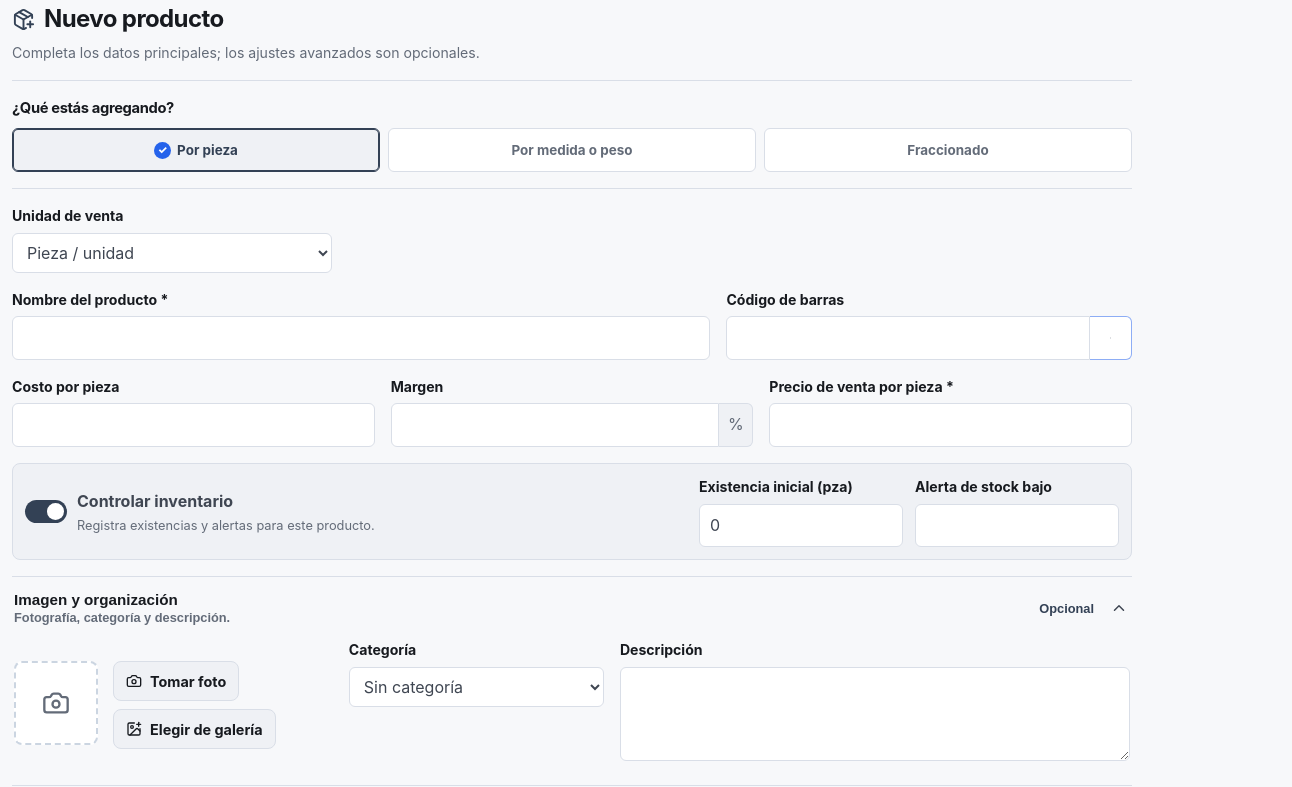
Scenario: ProductFormV2 › exposes hardware sale modes, canonical measure units, and conversion setup
Expected: the radio button labelled "Fraccionado" is shown, [764, 128, 1132, 172]
Expected: the dropdown labelled "Unidad de venta" shows "Pieza / unidad", [12, 233, 332, 273]
What coordinates should you click on to do the following:
click the radio button labelled "Por medida o peso"
I would click on:
 (572, 150)
Its box is [388, 128, 756, 172].
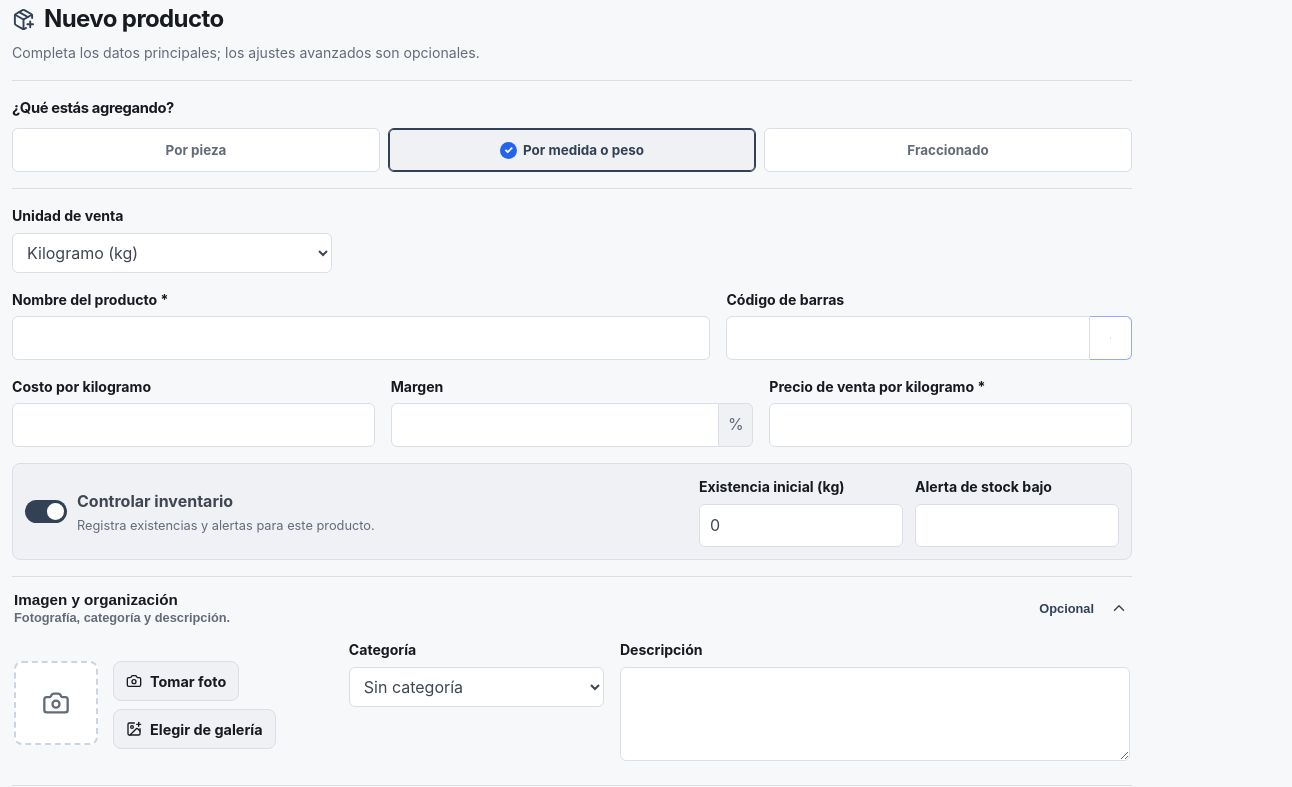
Now the dropdown labelled "Unidad de venta" shows "Kilogramo (kg)", box [12, 233, 332, 273]
What coordinates should you click on to do the following:
click the radio button labelled "Fraccionado"
I would click on:
 (948, 150)
Its box is [764, 128, 1132, 172].
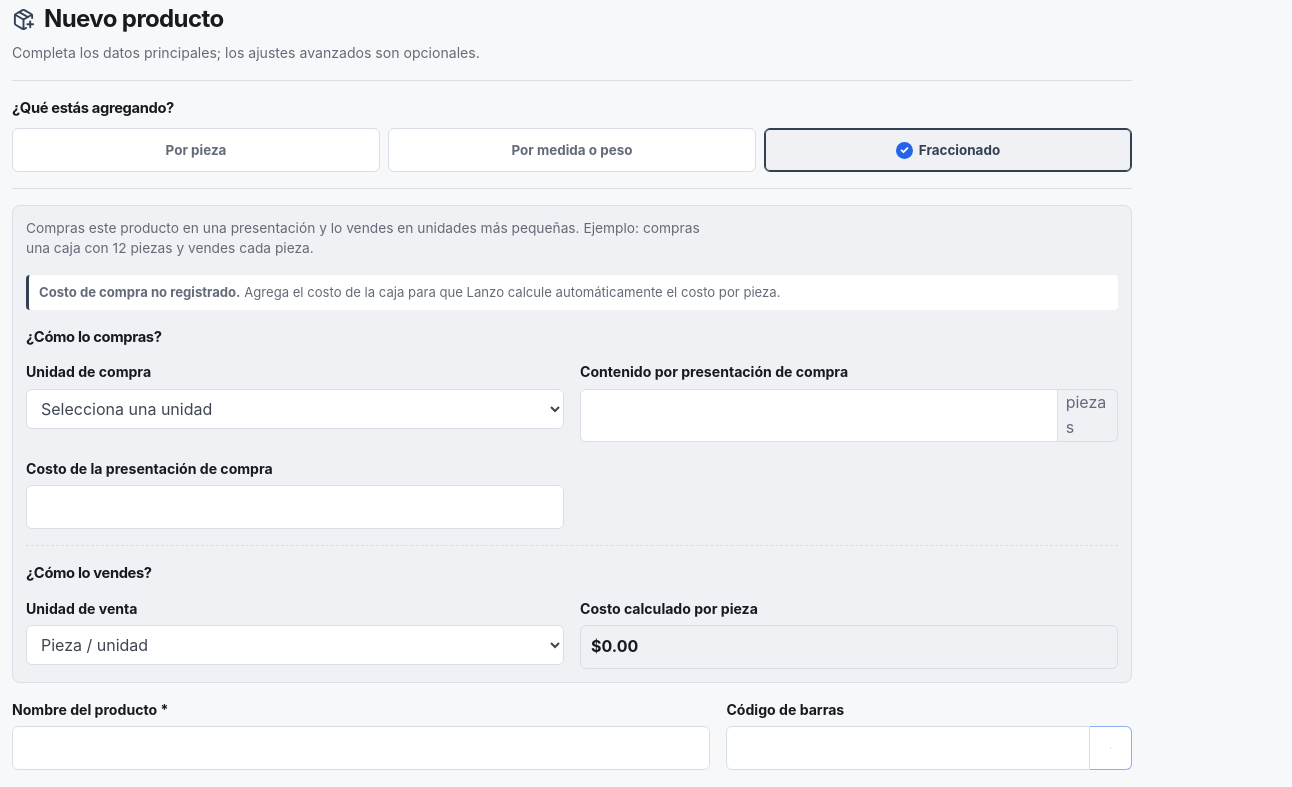
Now the heading "¿Cómo lo compras?" is shown, box [26, 328, 162, 346]
Now the dropdown labelled "Unidad de compra" is shown, box [26, 389, 564, 429]
What coordinates should you click on to do the following:
click the radio button labelled "Por pieza"
I would click on:
 (196, 150)
Its box is [12, 128, 380, 172].
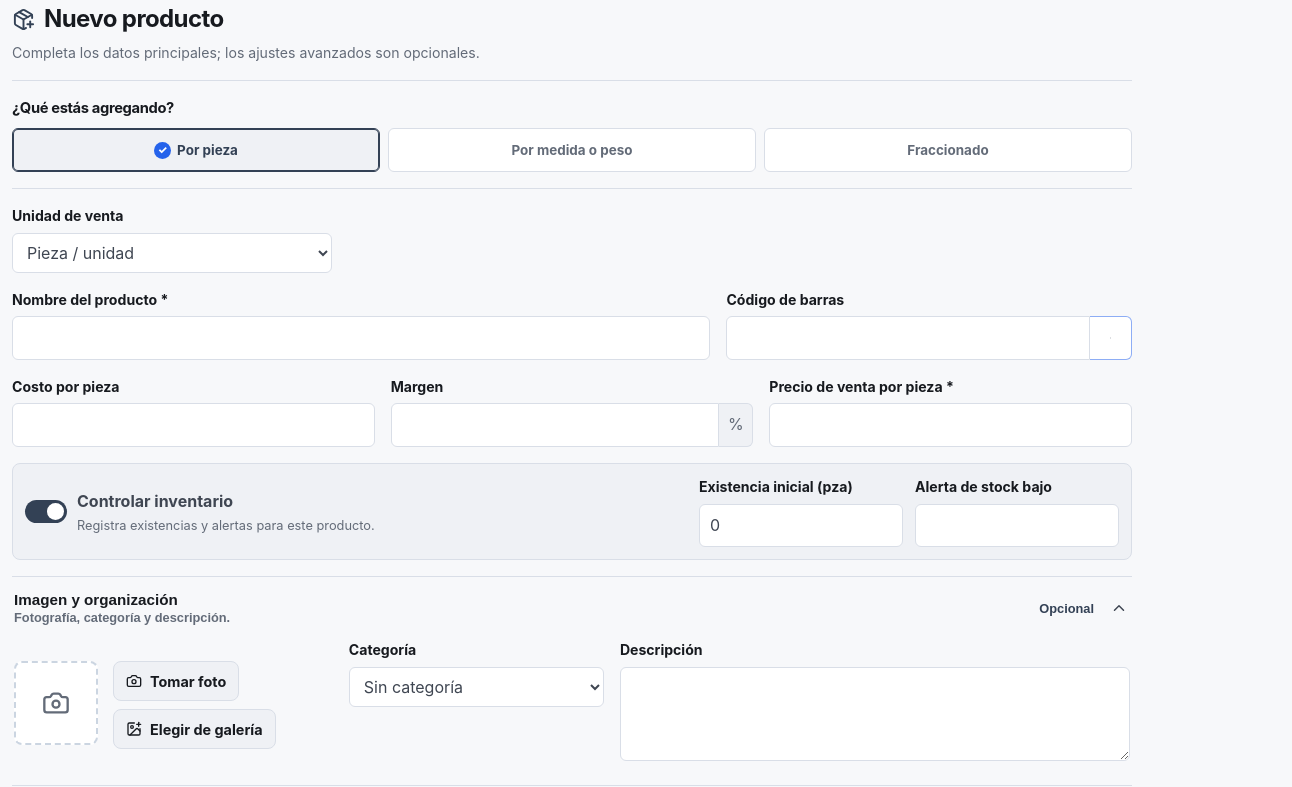
Expected: the element showing "✓ Por pieza Por medida o peso Fraccionado" is shown, [12, 128, 1132, 172]
Now the dropdown labelled "Unidad de venta" shows "Pieza / unidad", box [12, 233, 332, 273]
Now the label labelled "Unidad de compra" is gone
